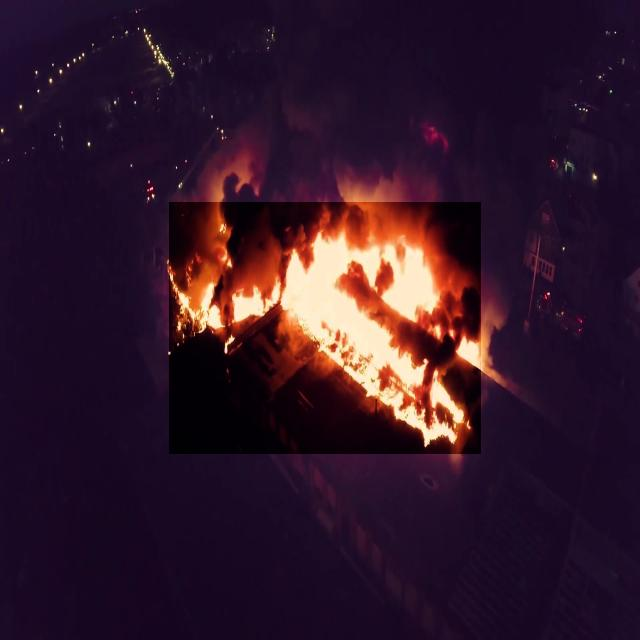Fire: (169, 202, 481, 454)
